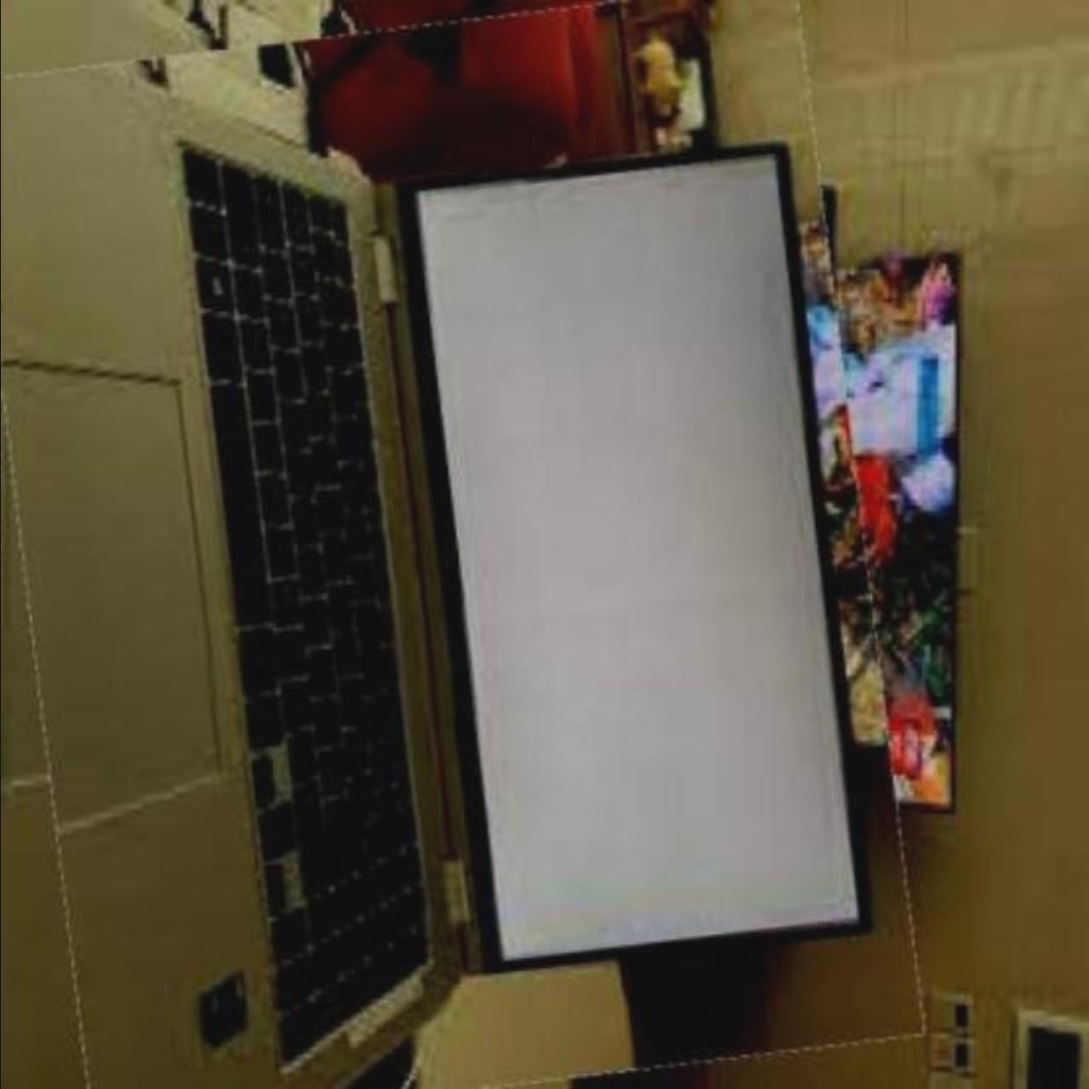laptop: (0, 3, 895, 1089)
